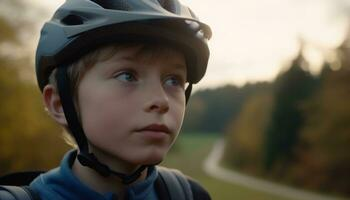helmets: (34, 0, 211, 92)
